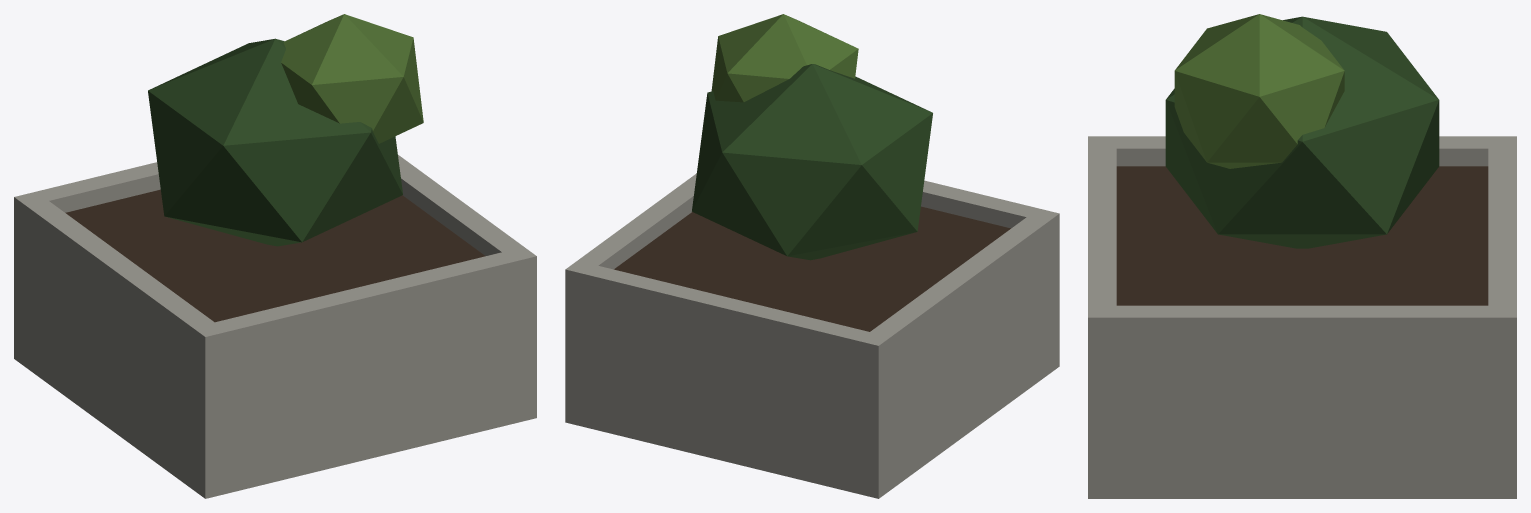
Rendered from planter.glb.
The picture shows the model from 3 angles, left to right: view 1: azimuth 30°, elevation 25°; view 2: azimuth 150°, elevation 25°; view 3: azimuth 270°, elevation 25°; orthographic projection. The views are drawn at different scales.
Parts seen in each view (by area): view 1: planter; view 2: planter; view 3: planter.
Part boxes in pixels (<box>): planter: <box>14,14,536,498</box>; planter: <box>565,14,1059,498</box>; planter: <box>1088,14,1516,498</box>.
Bounding box in the file's own units: 1.2 × 1.3 × 1.2.
1 material, 1 textured.
